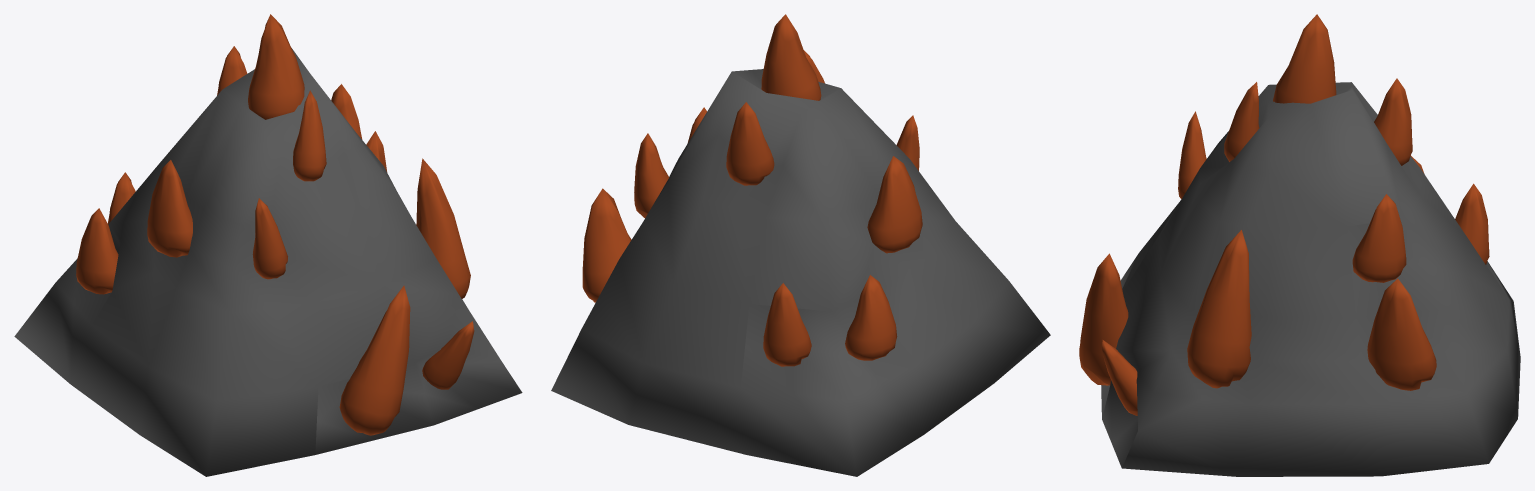
The model's file is Ores with Lode.fbx.
The picture shows the model from 3 angles, left to right: view 1: azimuth 30°, elevation 25°; view 2: azimuth 150°, elevation 25°; view 3: azimuth 270°, elevation 25°; orthographic projection. The views are drawn at different scales.
Visible parts, largest first — view 1: Ore Lode, Ores; view 2: Ore Lode, Ores; view 3: Ore Lode, Ores.
Boxes of the visible parts, box(x1,y1,x2,y2) form: Ore Lode: box(14, 48, 522, 476); Ores: box(76, 14, 474, 435); Ore Lode: box(551, 69, 1050, 476); Ores: box(582, 14, 922, 366); Ore Lode: box(1101, 82, 1520, 476); Ores: box(1079, 14, 1489, 415).
Bounding box in the file's own units: 3.65 × 3.85 × 3.65.
